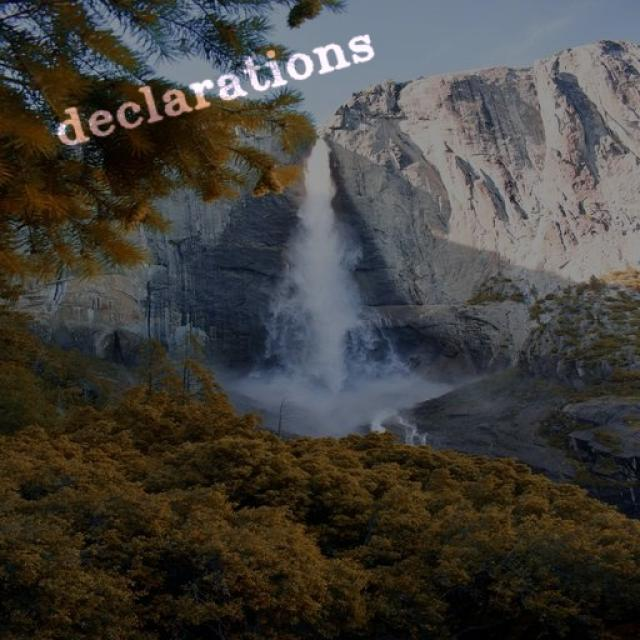watermark: (47, 20, 377, 155)
